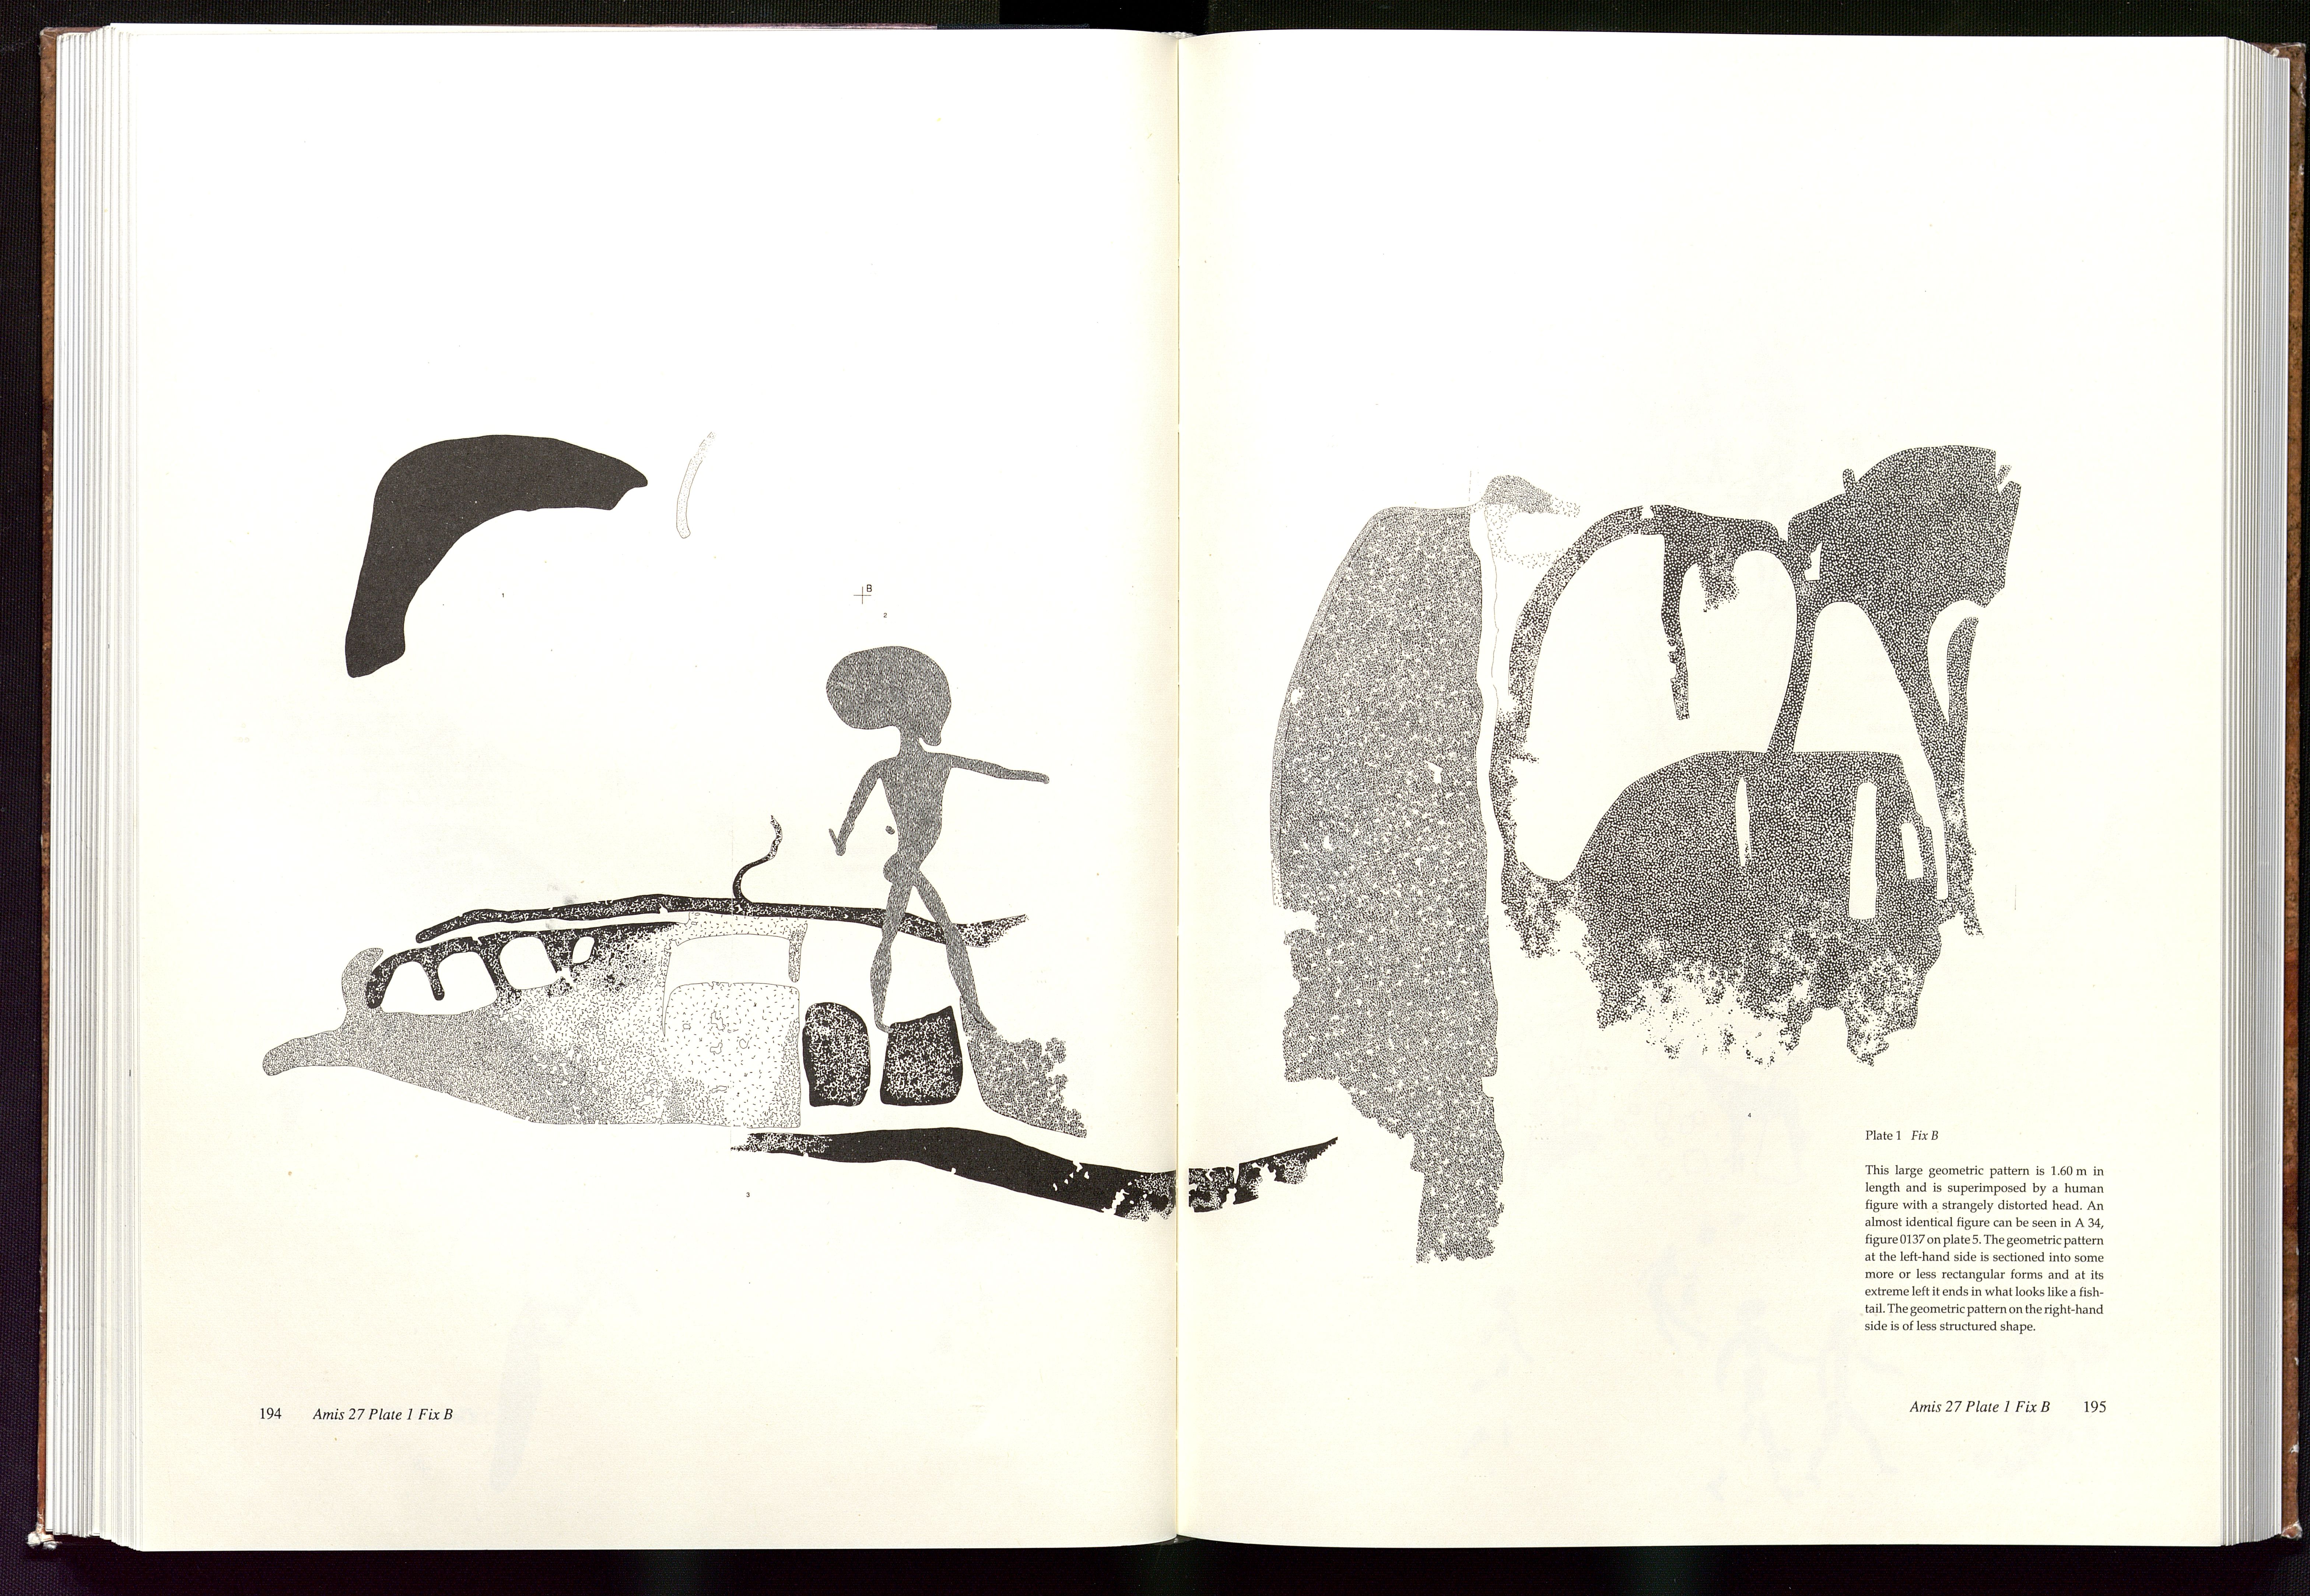human: (814, 637, 1077, 1049)
